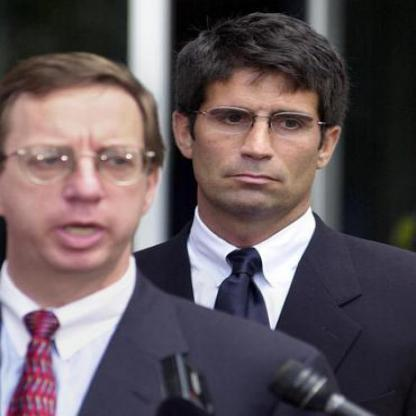face: (1, 59, 151, 280), (191, 26, 330, 220)
